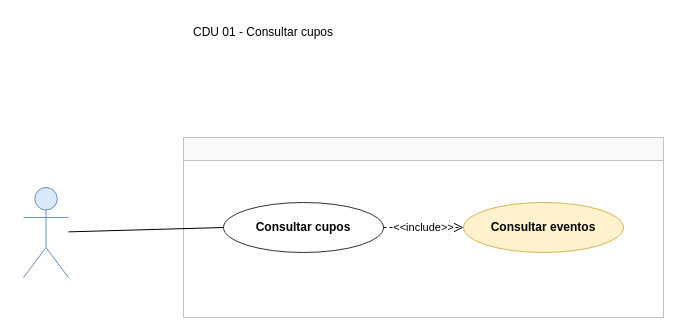
This 681x335 diagram has some shape labels left out. Each missing label, with the box of its shape:
CampusFest (Uso): (182, 136, 664, 318)
Estudiante: (22, 186, 68, 278)
